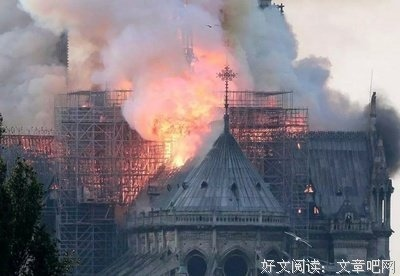fire: (124, 45, 228, 169)
